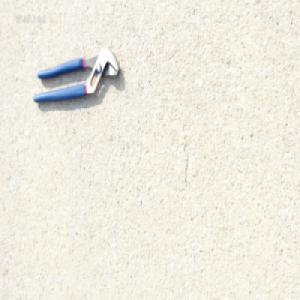Pliers: (32, 44, 121, 102)
